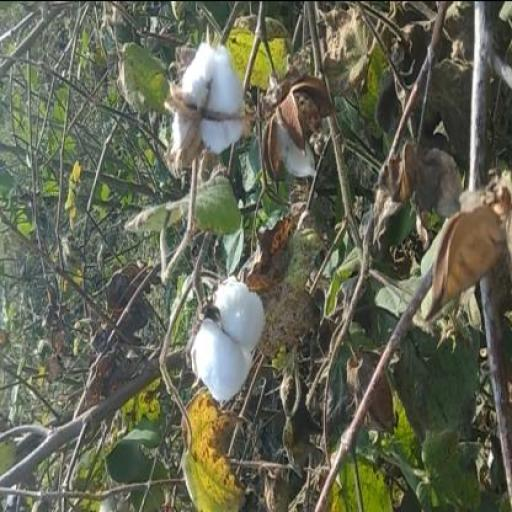cotton_ready: (157, 41, 258, 184), (180, 256, 269, 416)
